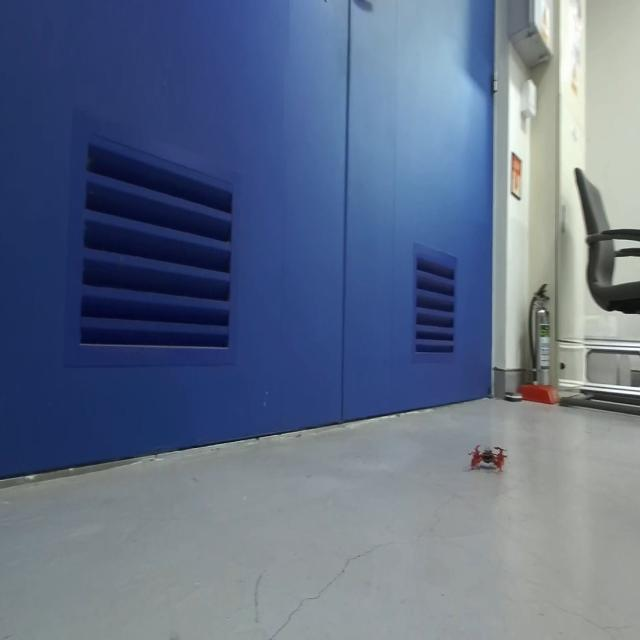crazyflie: (465, 441, 508, 482)
